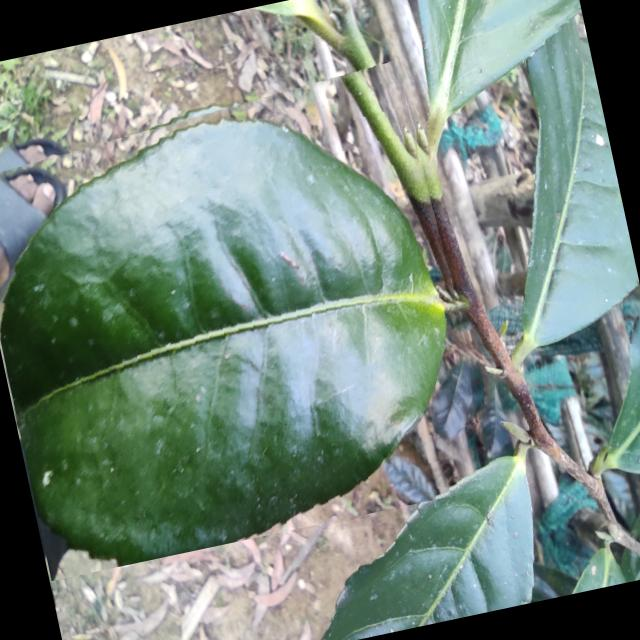Category D(7+ days, Not for Tea): (0, 56, 501, 580)
